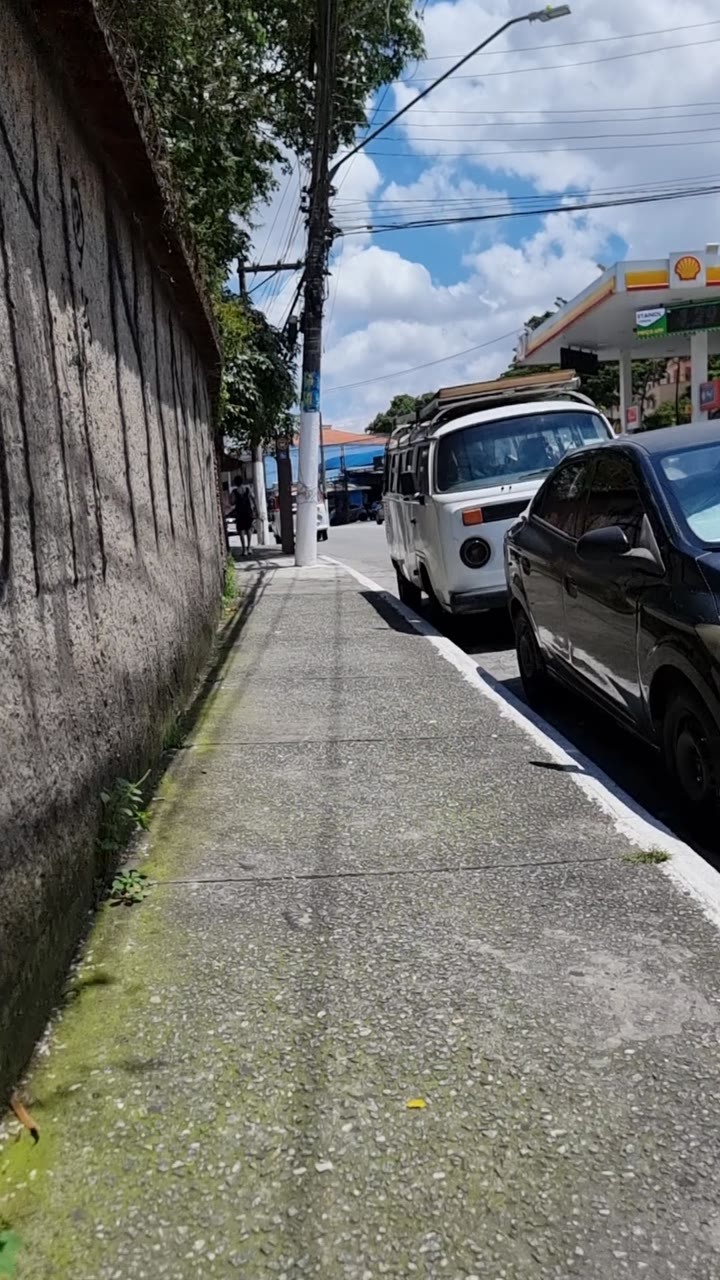obstaculo: (302, 384, 346, 550)
